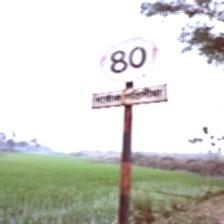Speed-limit: (93, 36, 166, 110)
